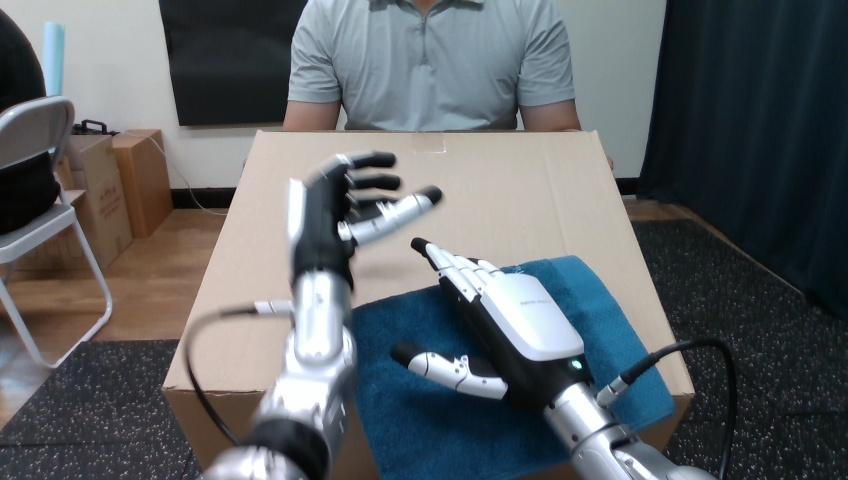left robot hand: (185, 151, 441, 479), (391, 237, 735, 479)
